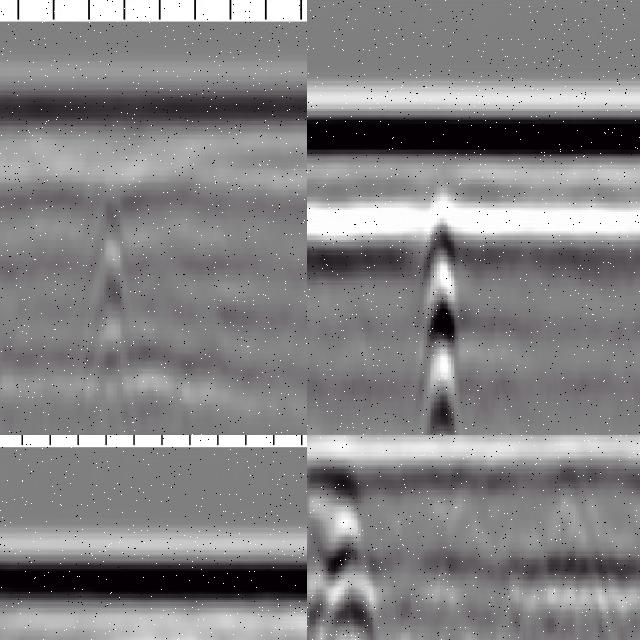crack: (76, 155, 133, 436), (421, 185, 459, 436)
loose: (308, 465, 391, 640)
